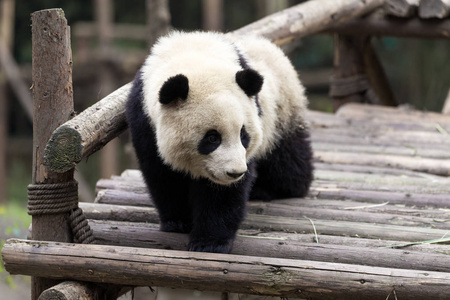panda: (123, 23, 321, 252)
